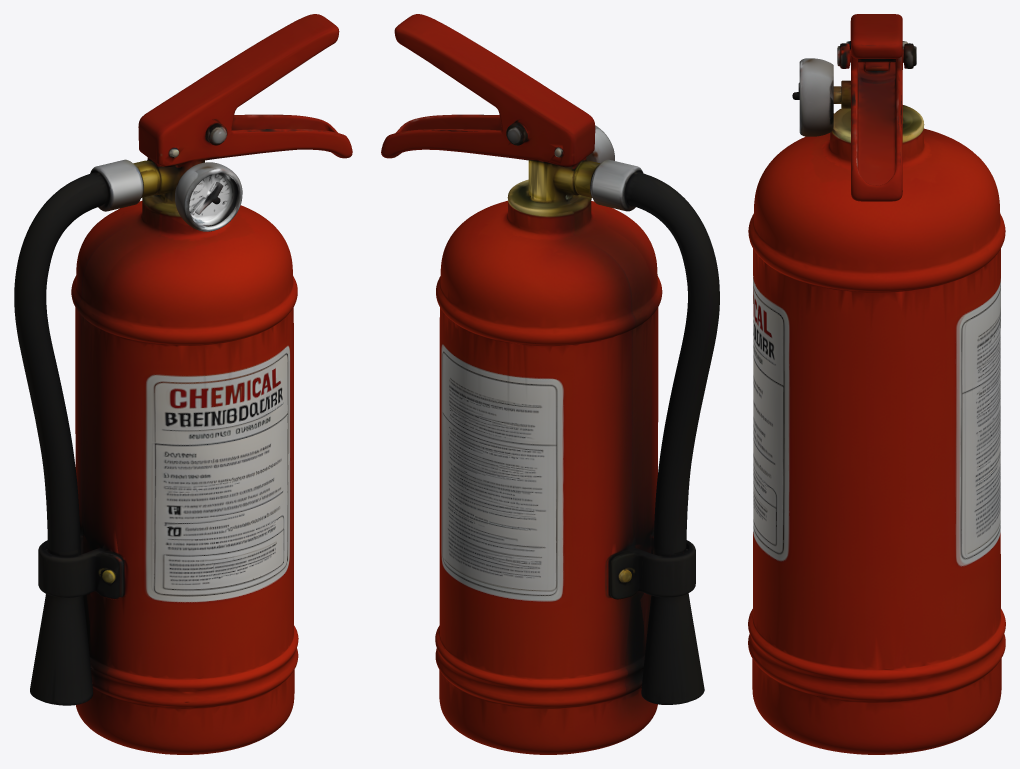
File: Extinguisher.glb
3 views of the same model, side by side, from view 1: azimuth 30°, elevation 25°; view 2: azimuth 150°, elevation 25°; view 3: azimuth 270°, elevation 25° (orthographic). The views are drawn at different scales.
Visible parts, largest first — view 1: node_0; view 2: node_0; view 3: node_0.
Boxes of the visible parts, x1,y1,x2,y2 form: node_0: (14, 14, 352, 754); node_0: (381, 14, 719, 754); node_0: (748, 14, 1005, 754).
Bounding box in the file's own units: 0.565 × 1.09 × 0.3402.
1 material, 1 textured.
